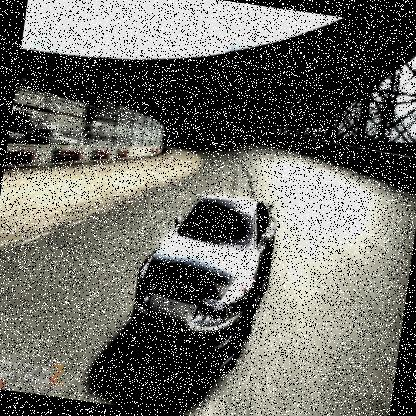Car: (126, 186, 280, 378)
